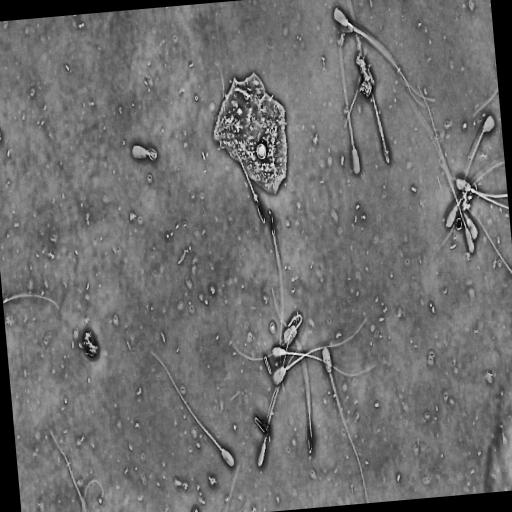coiled-tail: (288, 314, 302, 329), (146, 147, 157, 161), (148, 149, 156, 159)
dirt-particles: (212, 70, 291, 200), (355, 51, 376, 105), (80, 328, 101, 360), (253, 413, 270, 441)
loose-tail: (342, 41, 368, 135), (3, 291, 62, 314)
normal: (146, 344, 236, 469), (332, 7, 436, 102), (418, 84, 475, 253), (321, 343, 370, 500), (257, 328, 311, 470), (270, 315, 367, 388), (456, 112, 496, 213), (271, 344, 378, 379), (337, 24, 361, 177), (128, 141, 159, 165), (283, 313, 303, 346)
